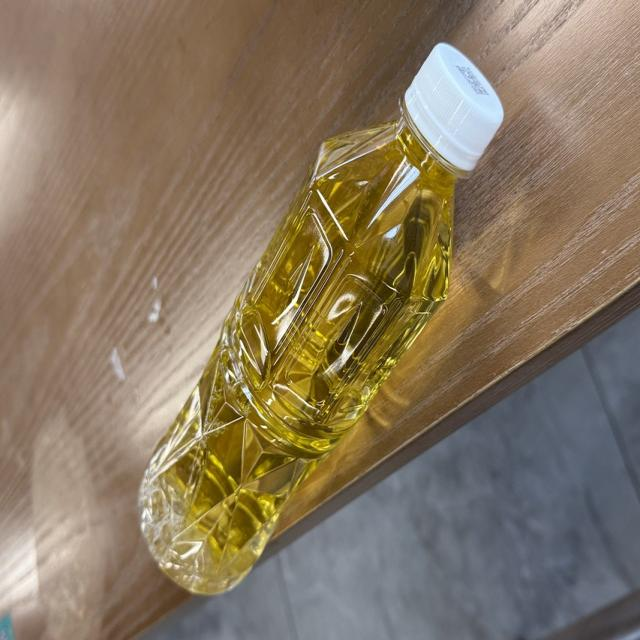high: (140, 44, 503, 593)
